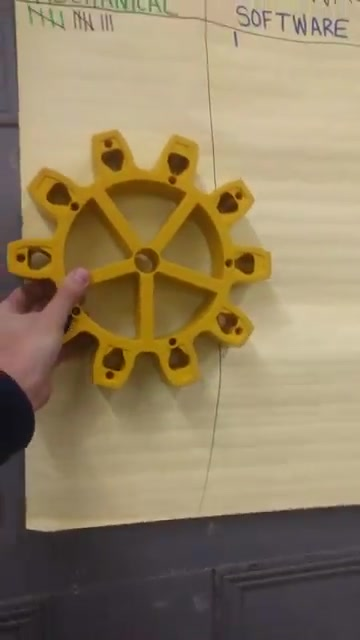gear: (9, 109, 268, 412)
